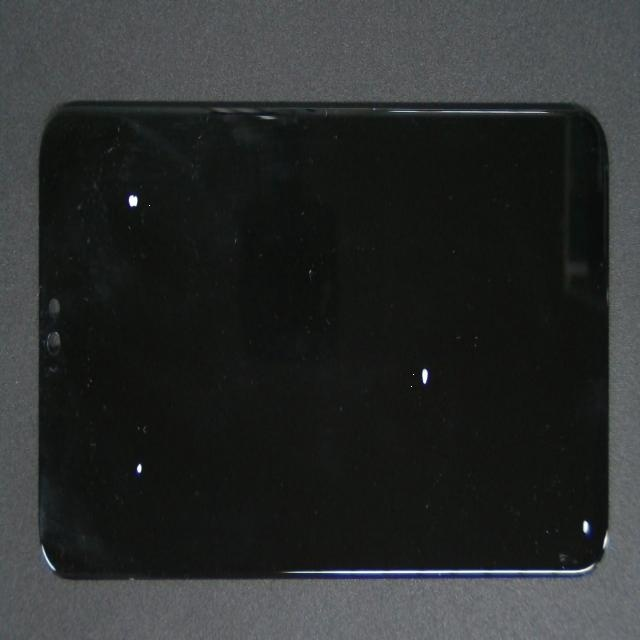stain: (195, 173, 622, 589), (285, 246, 640, 640), (55, 233, 198, 640), (49, 74, 188, 324)
